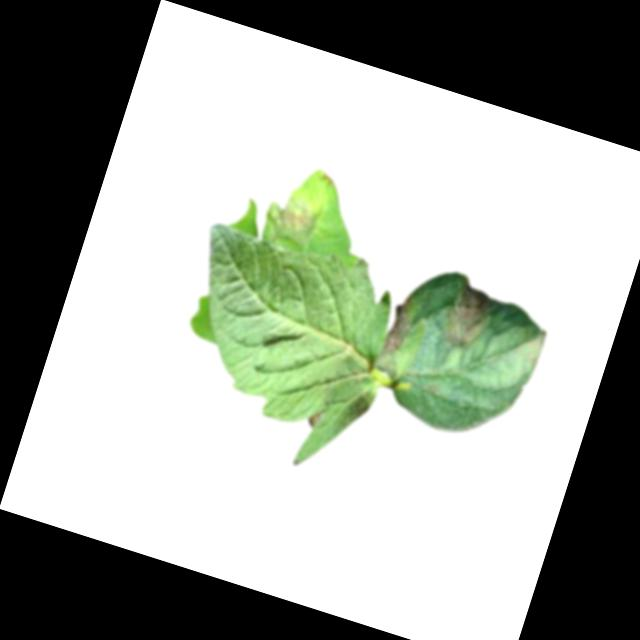Late_blight: (437, 275, 502, 356), (258, 186, 325, 252), (379, 291, 421, 364), (340, 384, 378, 429), (305, 409, 322, 431)
